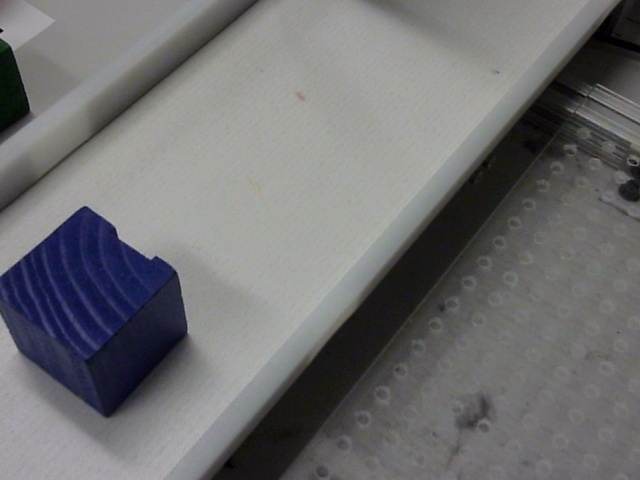BlueBlock: (1, 206, 188, 418)
